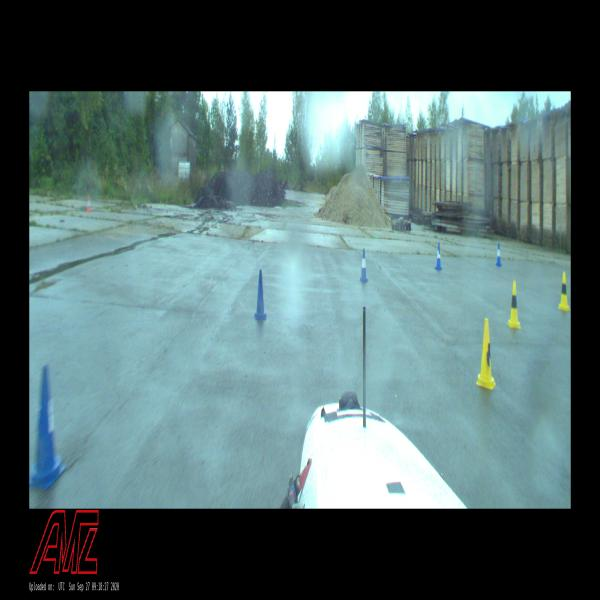blue_cone: (29, 367, 68, 489), (254, 269, 266, 319), (360, 248, 367, 282), (434, 243, 442, 270), (496, 243, 502, 266)
orange_cone: (87, 197, 91, 212)
yellow_cone: (476, 318, 496, 389), (507, 281, 521, 328), (558, 272, 570, 310)
